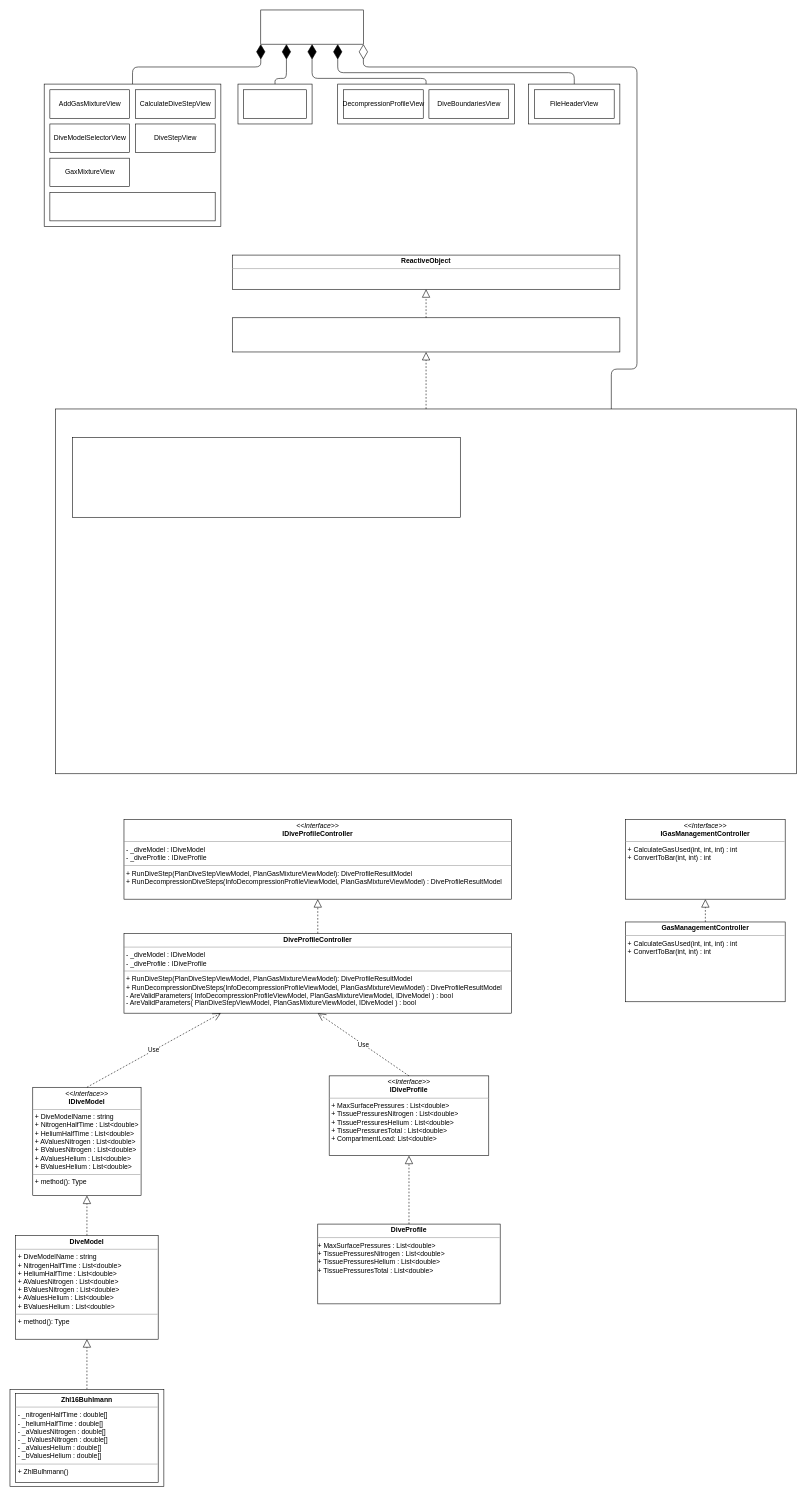
Some shapes in this 807 by 1496 pixel diagram are drawn without their labels. Each missing label, with the centre of its shape:
"A Class sadsad sa" belongs at point 266,477.
"DiveResultView" belongs at point 274,103.
"GasManagementSetupView" belongs at point 132,206.
"MainWindow" belongs at point 311,26.
"ViewModelBase" belongs at point 426,334.
